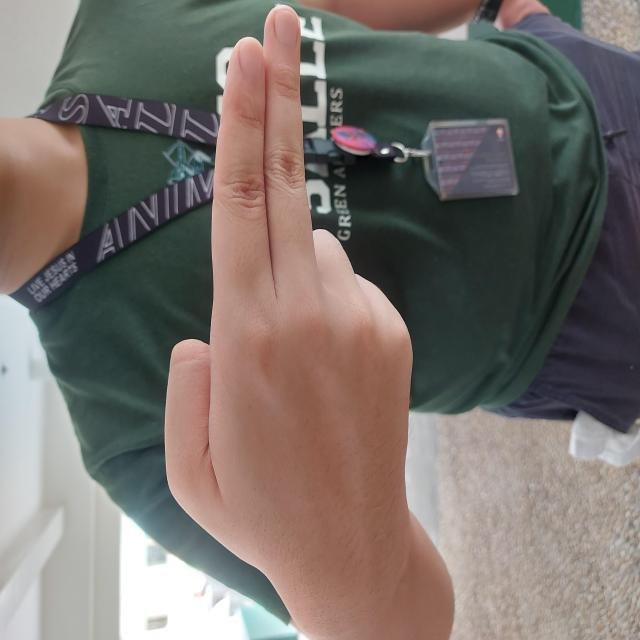H: (61, 164, 640, 416)
